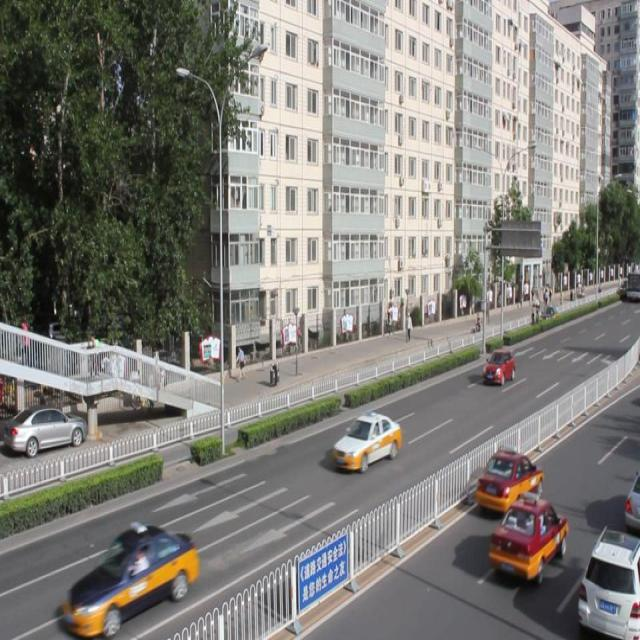car: (60, 522, 197, 634), (578, 524, 640, 640), (486, 494, 566, 579), (474, 445, 542, 513), (332, 410, 399, 471), (482, 347, 513, 383)
